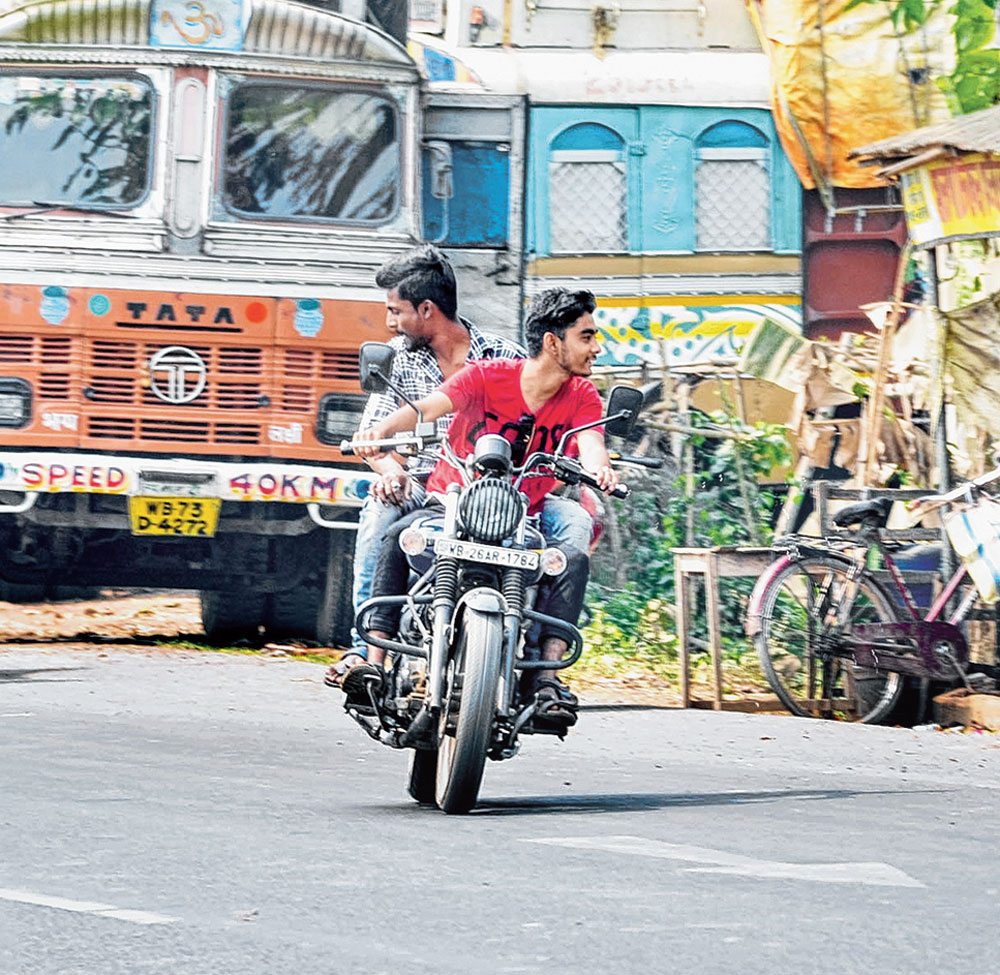motor: (335, 343, 648, 826)
no helmet: (375, 244, 467, 354), (520, 284, 603, 379)
number: (430, 535, 538, 572)
